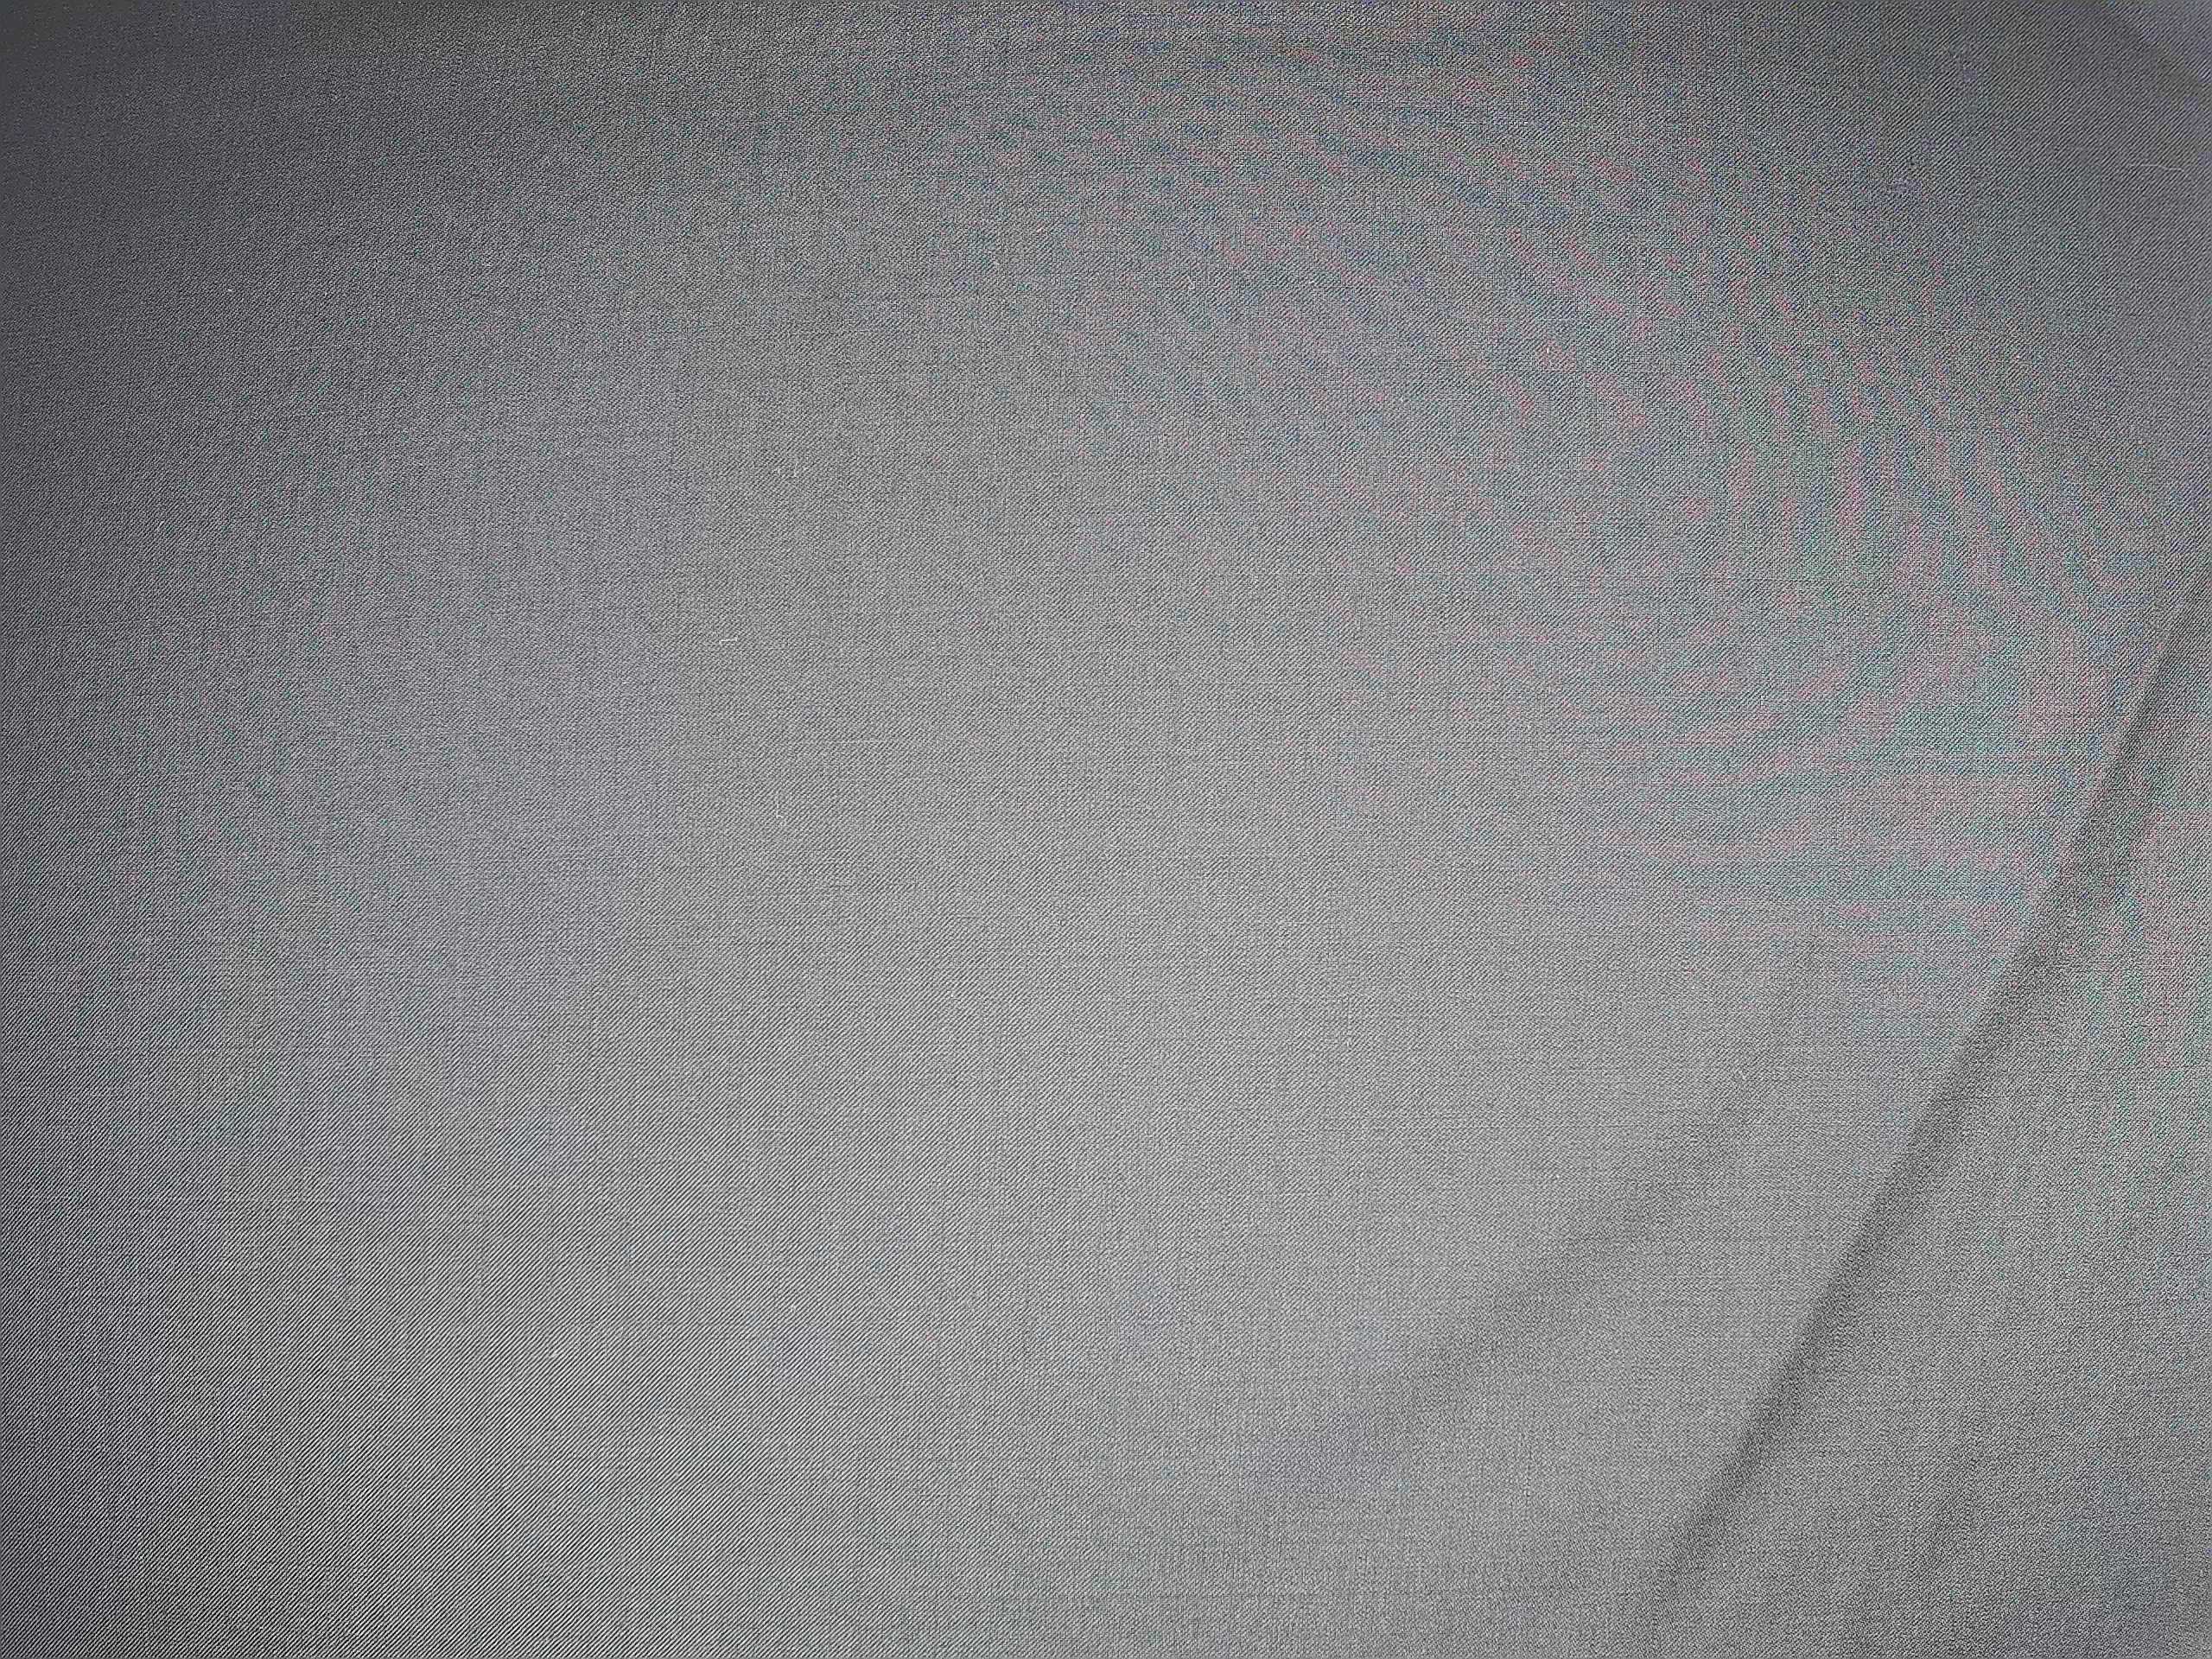rubbing-hole: (1939, 31, 1987, 92), (1874, 160, 1928, 211)
